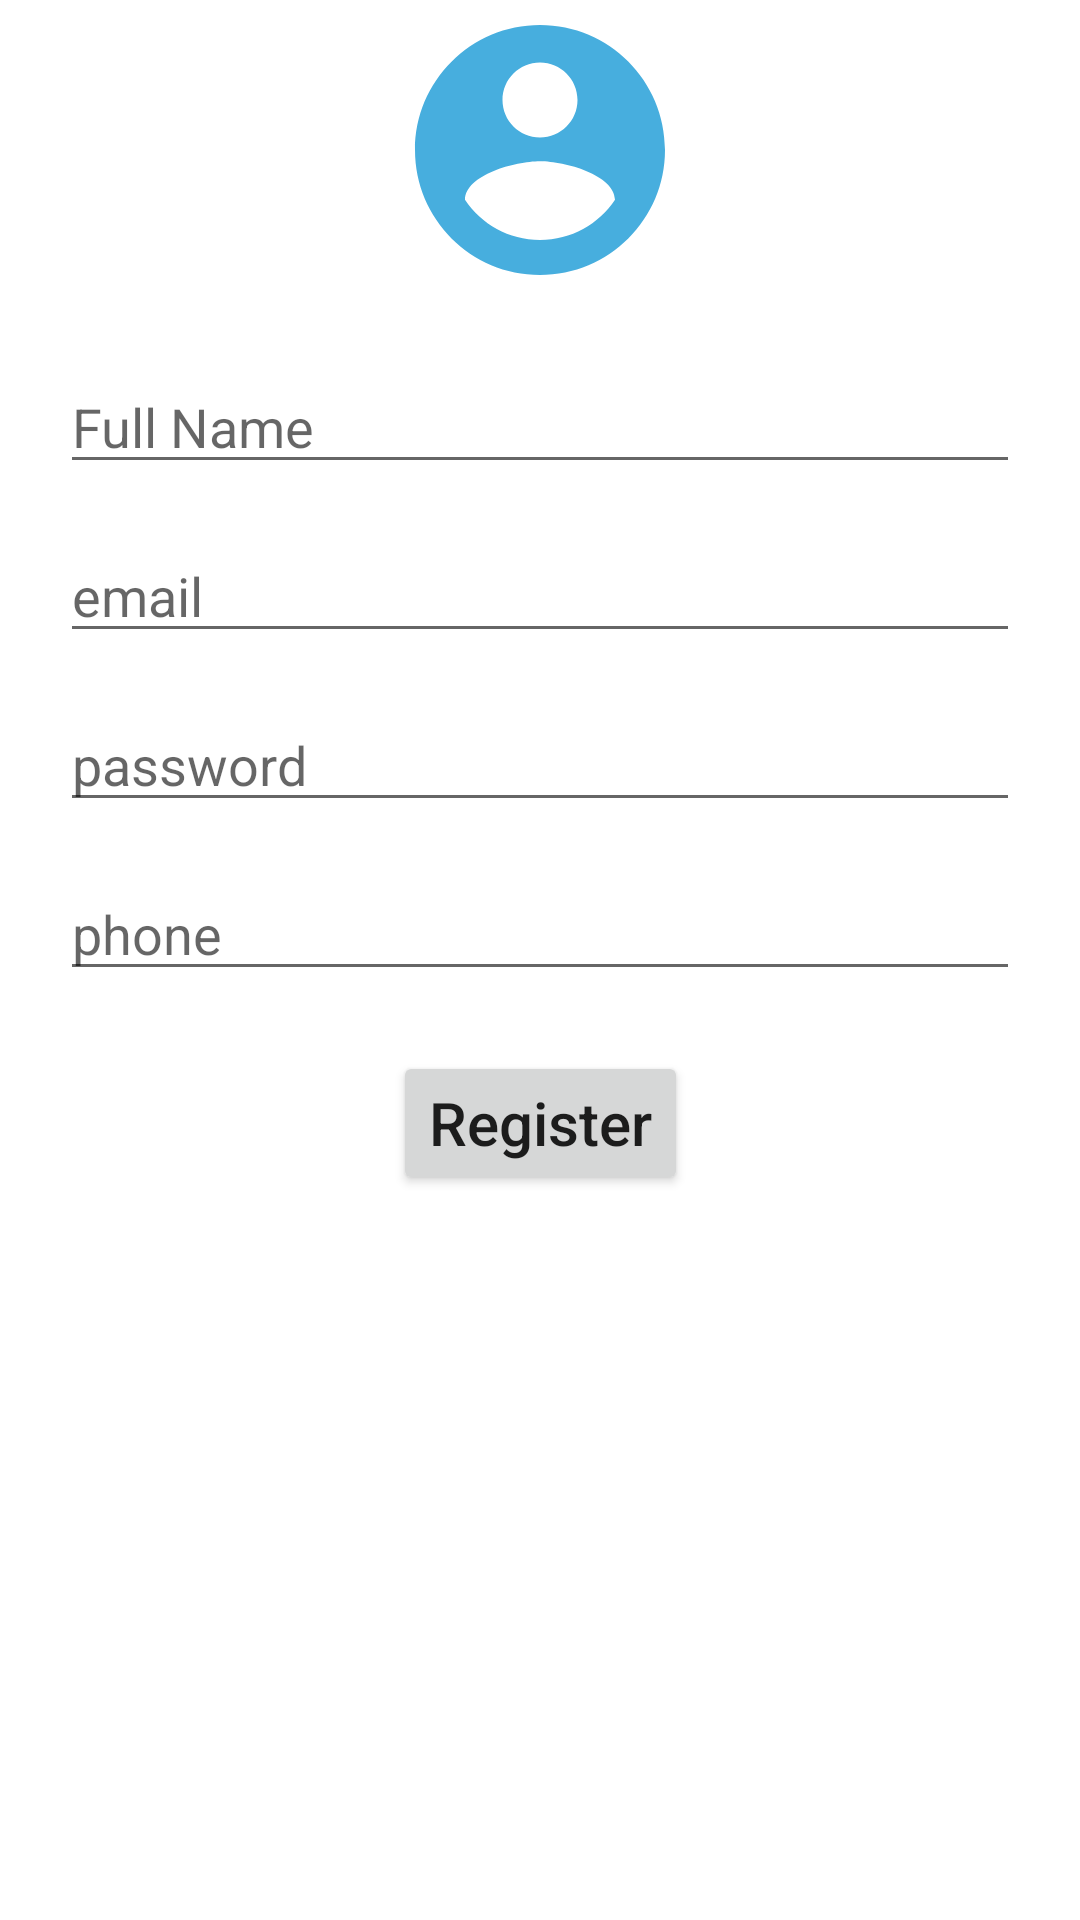

Icon bounding boxes for this 1080 x 1920 phone screenshot, format (x1=x1, y1=y1, x2=x2, y2=y2):
profile iamge: (x1=415, y1=25, x2=665, y2=275)
